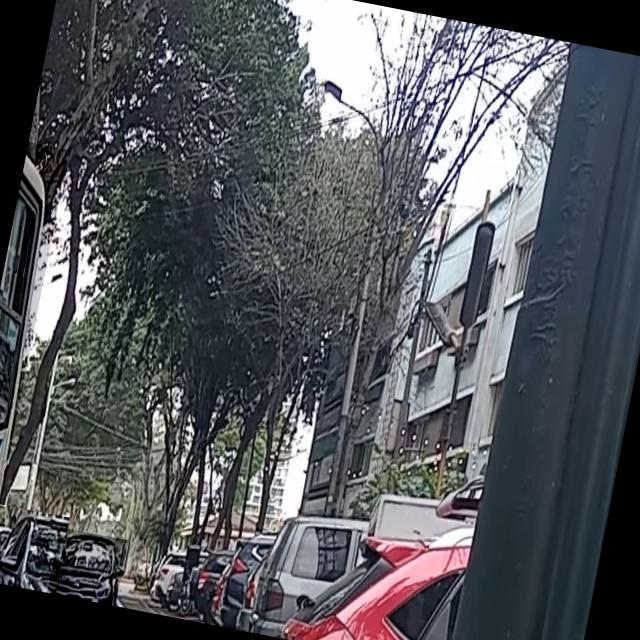bus: (0, 143, 56, 500)
car: (0, 504, 71, 595), (47, 527, 128, 606)
